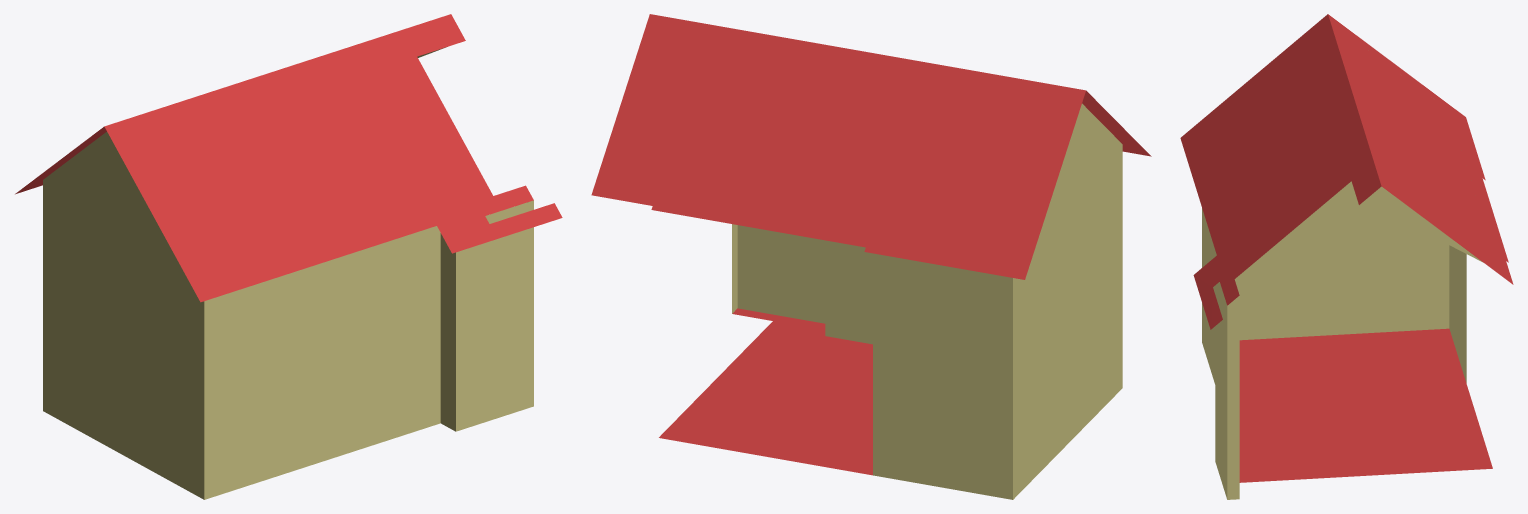
The picture shows the model from 3 angles, left to right: view 1: azimuth 30°, elevation 25°; view 2: azimuth 150°, elevation 25°; view 3: azimuth 270°, elevation 25°; orthographic projection. The views are drawn at different scales.
Bounding box in the file's own units: 17.44 × 12.95 × 13.43.
